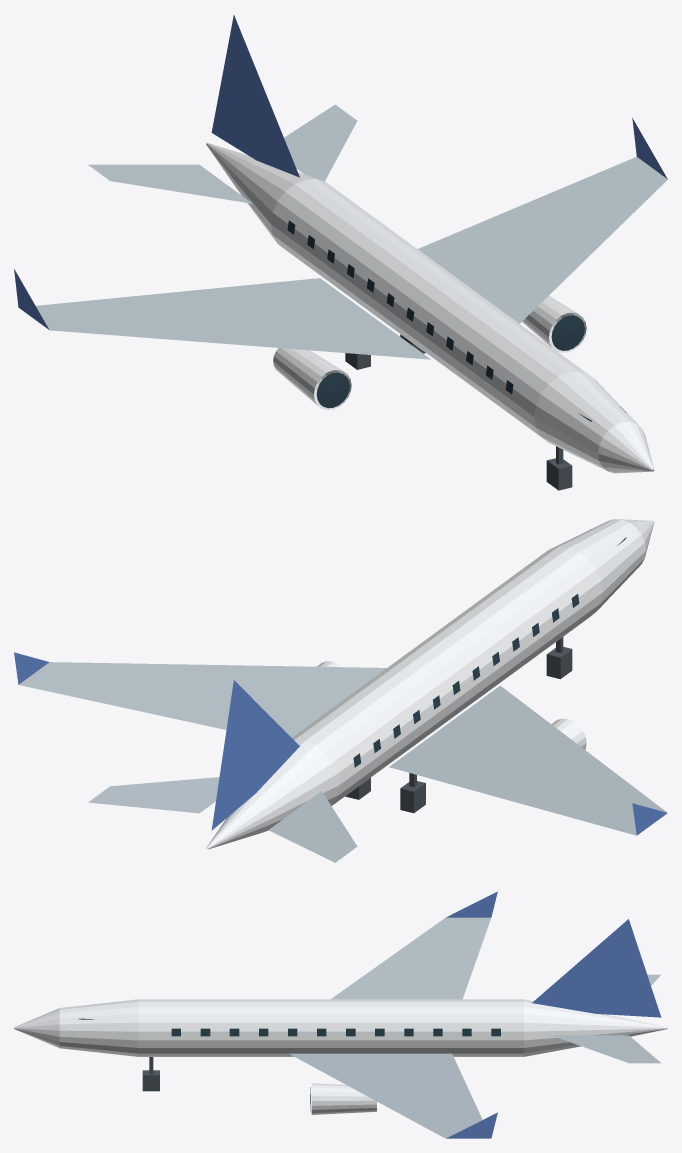
The model's file is a321-SWA.gltf.
3 renders of one model, top to bottom at view 1: azimuth 30°, elevation 25°; view 2: azimuth 150°, elevation 25°; view 3: azimuth 270°, elevation 25°, orthographic. The views are drawn at different scales.
Visible parts, largest first — view 1: object 1, Gear; view 2: object 1, Gear; view 3: object 1, Gear.
Part boxes in pixels (box(x1,y1,x2,y2)): object 1: box(14, 15, 667, 473); Gear: box(345, 334, 572, 490); object 1: box(14, 519, 667, 862); Gear: box(345, 637, 572, 813); object 1: box(14, 891, 667, 1138); Gear: box(142, 1057, 159, 1091).
Bounding box in the file's own units: 36 × 12.9 × 45.
